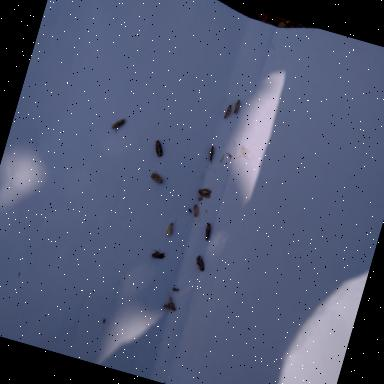pbw: (110, 114, 127, 136), (161, 291, 179, 311), (150, 138, 166, 158), (223, 98, 236, 122), (192, 254, 207, 273), (202, 222, 214, 243), (149, 170, 165, 185), (196, 186, 213, 199), (206, 145, 217, 165), (150, 248, 166, 260), (231, 98, 242, 115), (190, 203, 201, 218), (166, 222, 176, 236)
